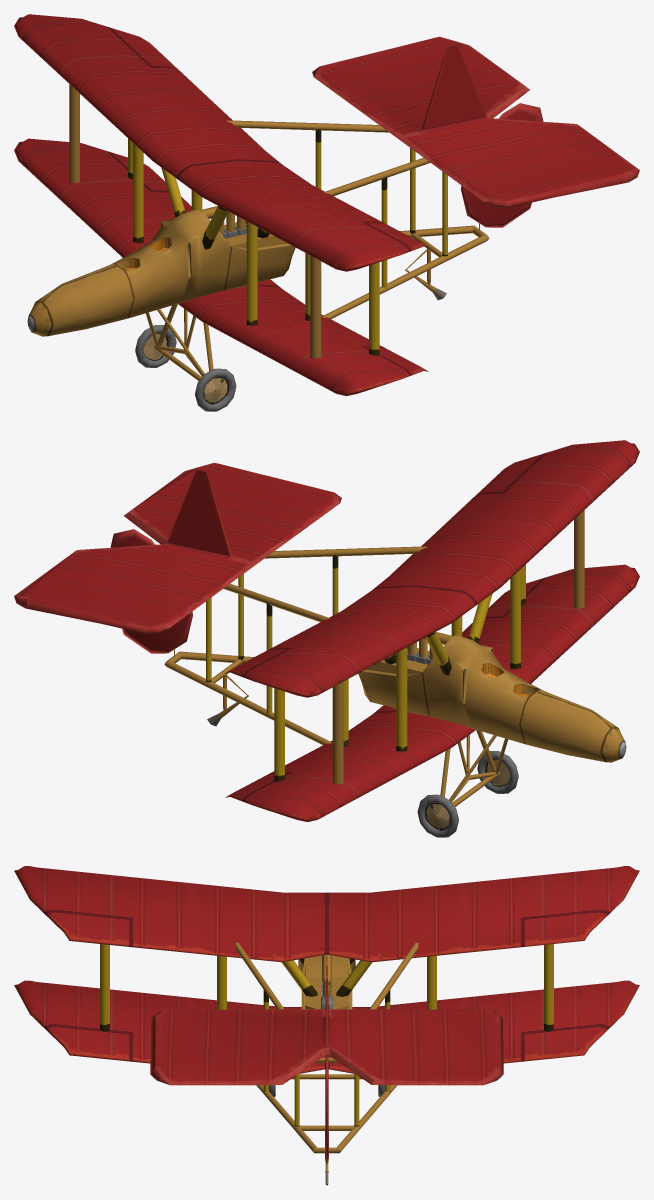
The picture shows the model from 3 angles, top to bottom: view 1: azimuth 30°, elevation 25°; view 2: azimuth 150°, elevation 25°; view 3: azimuth 270°, elevation 25°; orthographic projection. The views are drawn at different scales.
Parts seen in each view (by area): view 1: Royal aircraft factory fe2b; view 2: Royal aircraft factory fe2b; view 3: Royal aircraft factory fe2b.
Boxes of the visible parts, box(x1,y1,x2,y2) form: Royal aircraft factory fe2b: box(14, 14, 639, 411); Royal aircraft factory fe2b: box(14, 440, 639, 837); Royal aircraft factory fe2b: box(14, 866, 639, 1185).
Bounding box in the file's own units: 341 × 173 × 381.
Materials: 1 (1 with a texture image).
